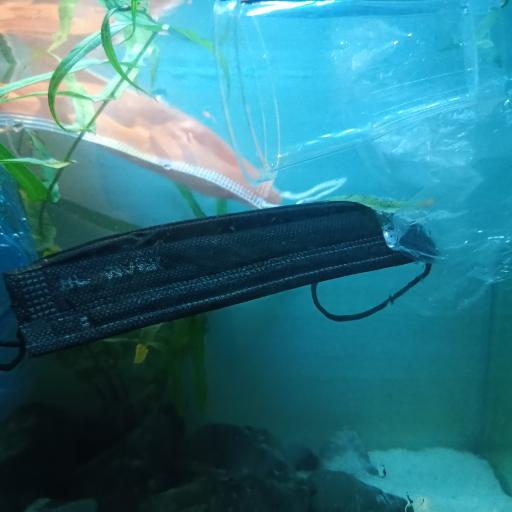mask: (0, 202, 441, 376), (5, 60, 341, 208)
plastic_bag: (323, 2, 512, 324), (0, 143, 33, 269)
plastic_cup: (216, 0, 492, 185)
